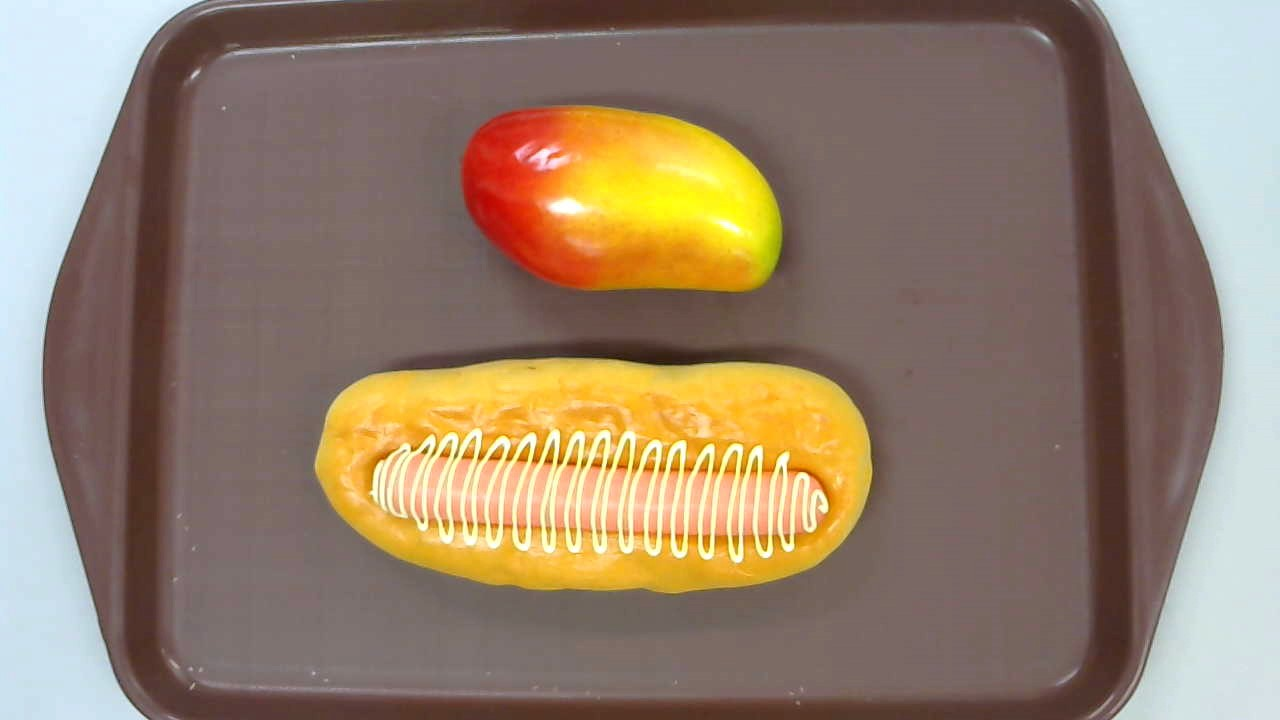hot dog: (312, 355, 874, 590)
red mango: (460, 103, 784, 291)
